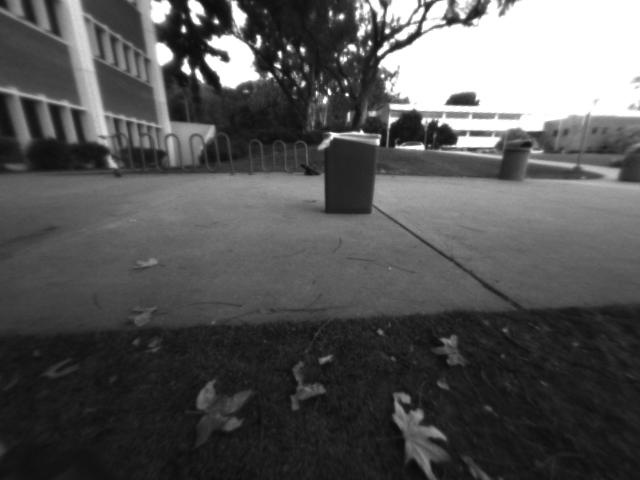trashcan_open: (319, 127, 383, 219)
